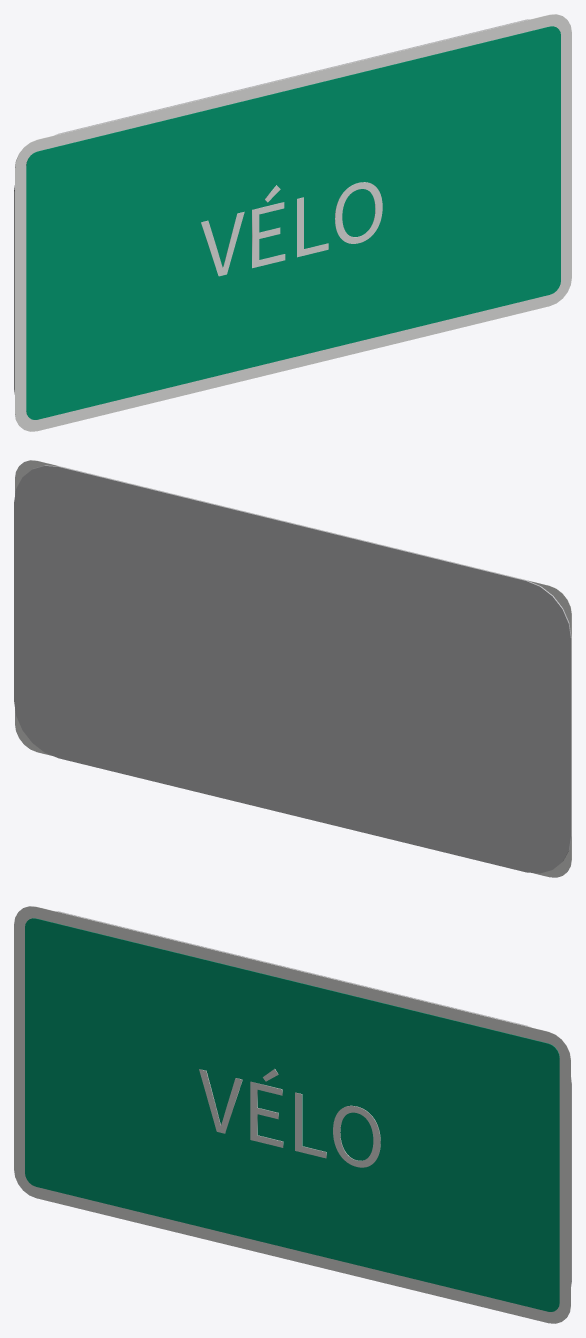
The picture shows the model from 3 angles, top to bottom: view 1: azimuth 30°, elevation 25°; view 2: azimuth 150°, elevation 25°; view 3: azimuth 330°, elevation 25°; orthographic projection.
Parts seen in each view (by area): view 1: Dv44_fond01, Dv44_cadre00, Dv44_txt02, Dv44_dos; view 2: Dv44_dos, Dv44_cadre00; view 3: Dv44_fond01, Dv44_cadre00, Dv44_txt02, Dv44_dos.
Boxes of the visible parts, x1=… form: Dv44_fond01: x1=26, y1=26, x2=560, y2=419; Dv44_cadre00: x1=15, y1=14, x2=571, y2=431; Dv44_txt02: x1=201, y1=182, x2=382, y2=276; Dv44_dos: x1=14, y1=19, x2=529, y2=394; Dv44_dos: x1=14, y1=465, x2=571, y2=873; Dv44_cadre00: x1=15, y1=460, x2=571, y2=877; Dv44_fond01: x1=25, y1=918, x2=559, y2=1311; Dv44_cadre00: x1=14, y1=906, x2=570, y2=1323; Dv44_txt02: x1=199, y1=1069, x2=380, y2=1167; Dv44_dos: x1=56, y1=911, x2=571, y2=1286.
Size of the model in its own units: 0.5 by 0.25 by 0.0025.
